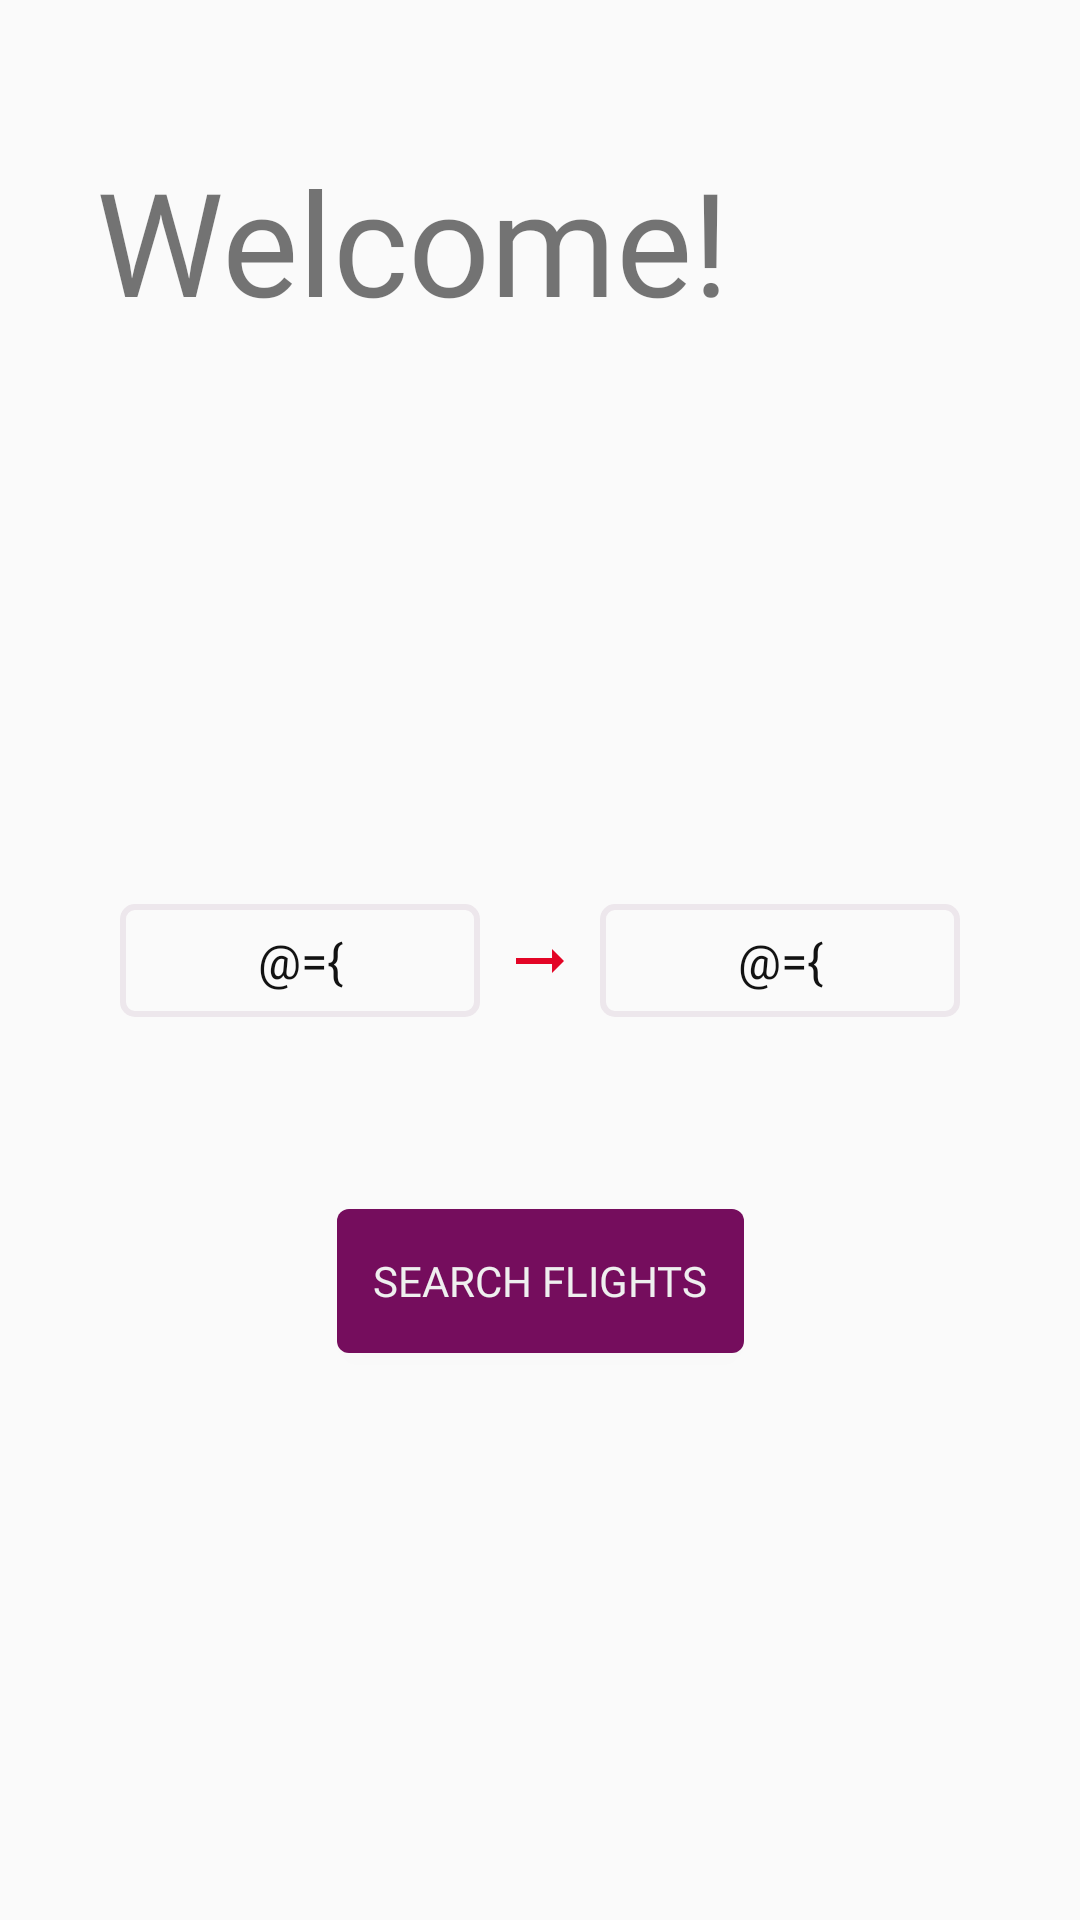

Icon bounding boxes for this 1080px×1920px phone screenshot, format region(x1, y1, x2, y2):
arrow right: region(516, 949, 564, 973)
